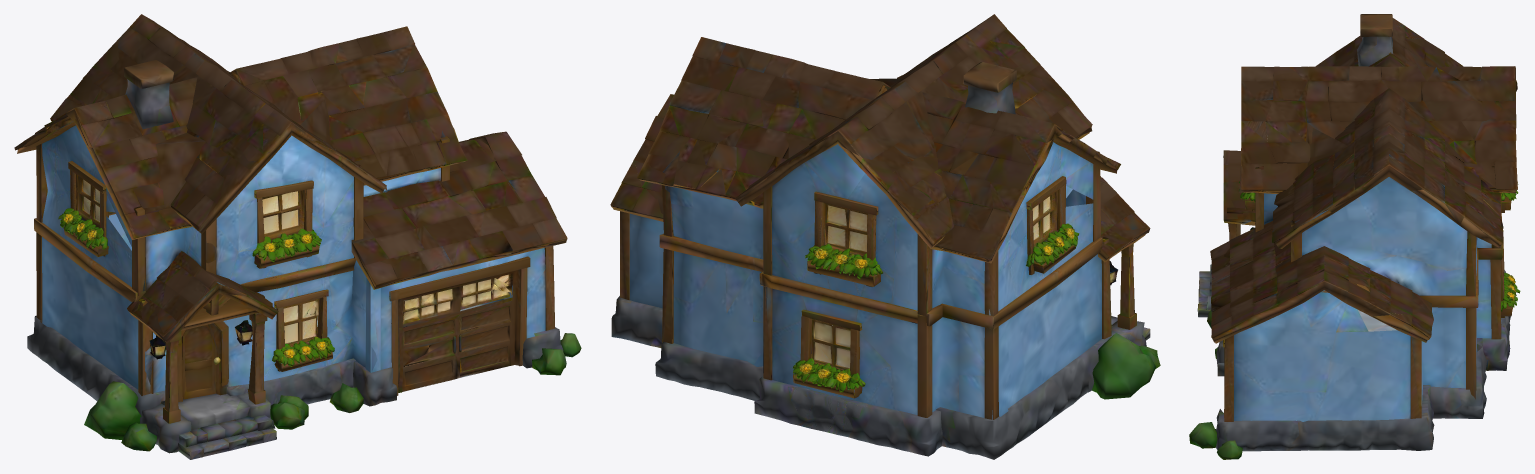
Rendered from house_blue.glb.
3 views of the same model, side by side, from view 1: azimuth 30°, elevation 25°; view 2: azimuth 150°, elevation 25°; view 3: azimuth 270°, elevation 25° (orthographic). The views are drawn at different scales.
Visible parts, largest first — view 1: geometry_0; view 2: geometry_0; view 3: geometry_0.
Part boxes in pixels (x1,y1,x2,y2): geometry_0: [14, 14, 581, 459]; geometry_0: [610, 14, 1160, 459]; geometry_0: [1189, 14, 1520, 459].
Size of the model in its own units: 0.9497 by 0.6118 by 0.6504.
Materials: 1 (1 with a texture image).
